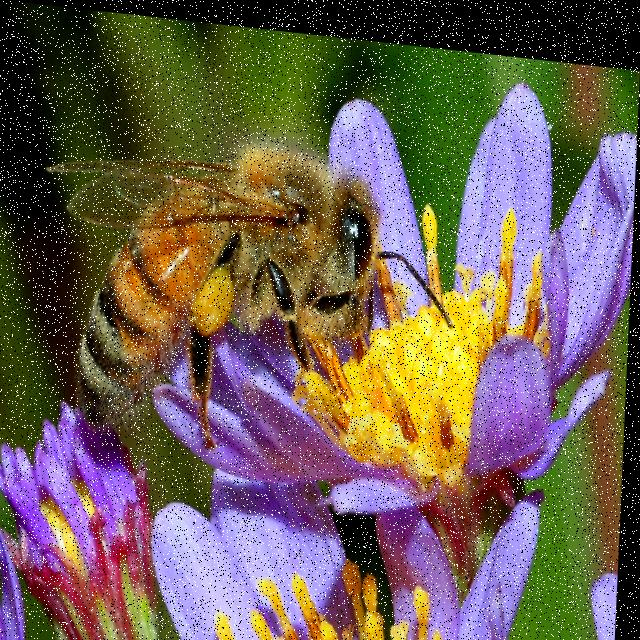Apis-mellifera-scutellata: (38, 114, 423, 459)
